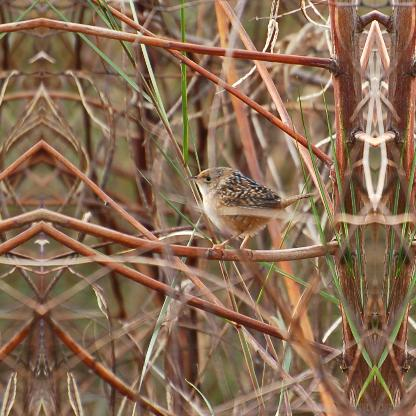Bird: (188, 164, 296, 268)
